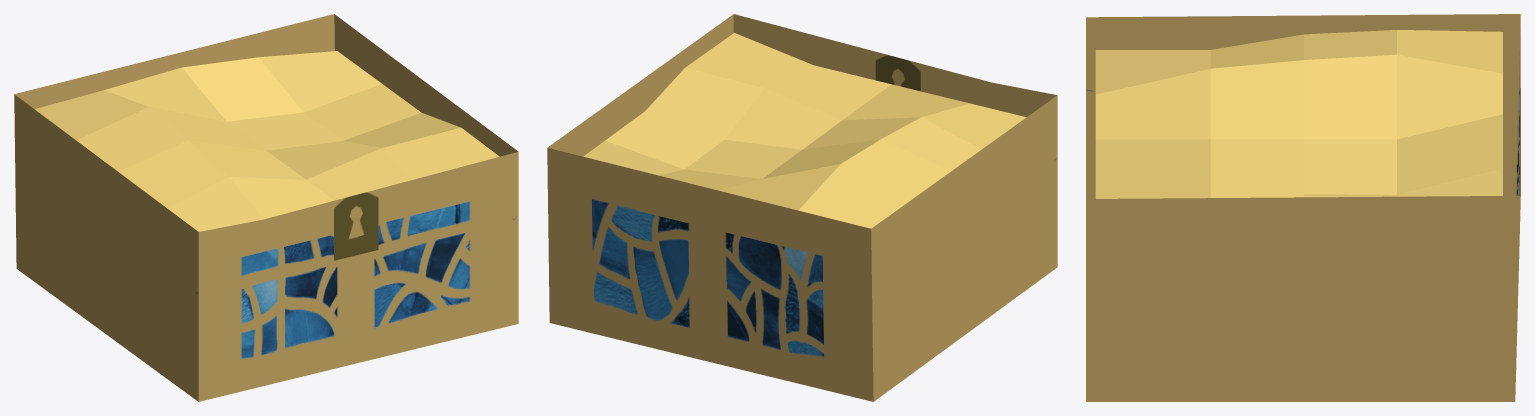
Rendered from chestBottom1.glb.
3 renders of one model, left to right at view 1: azimuth 30°, elevation 25°; view 2: azimuth 150°, elevation 25°; view 3: azimuth 270°, elevation 25°, orthographic. The views are drawn at different scales.
Parts seen in each view (by area): view 1: Cube; view 2: Cube; view 3: Cube.
Boxes of the visible parts, x1,y1,x2,y2 form: Cube: (14, 14, 518, 401); Cube: (547, 14, 1057, 401); Cube: (1086, 14, 1520, 401).
Bounding box in the file's own units: 1 × 0.5329 × 0.9975.
2 materials, 1 textured.
